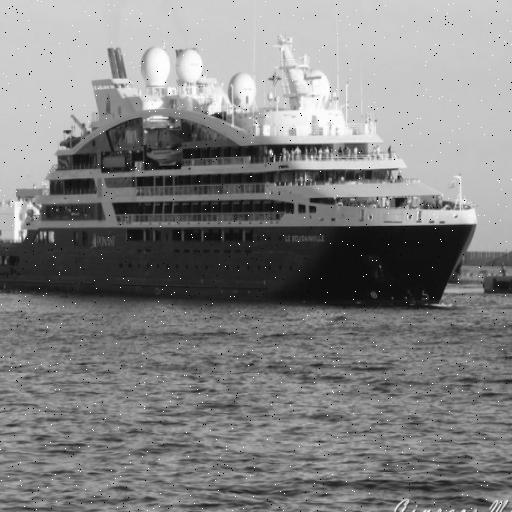cruises: (1, 43, 480, 317)
